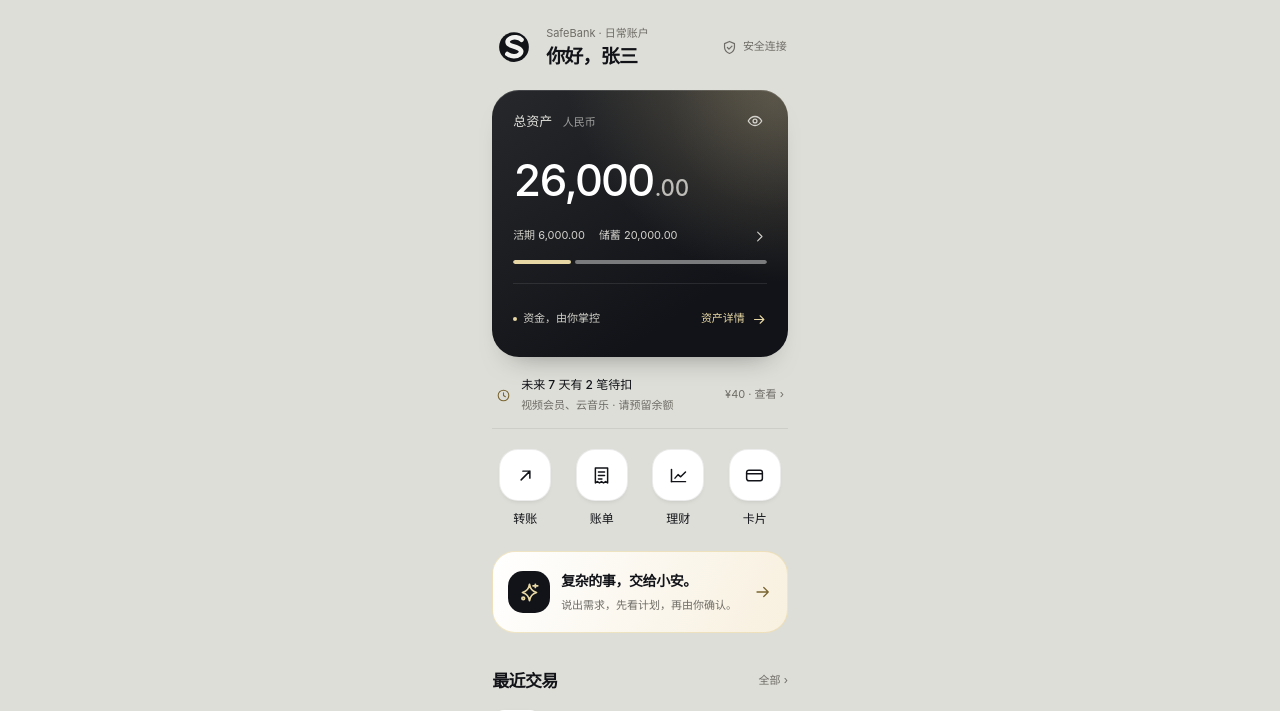
首页聚合 › 金额开关立即遮盖资产与交易，并持久化；明细面板遵循隐私偏好
Expected: the element with test id "home-total" is shown, [513,153,689,207]
Click the button named "隐藏金额": (755, 121) [733,99,777,143]
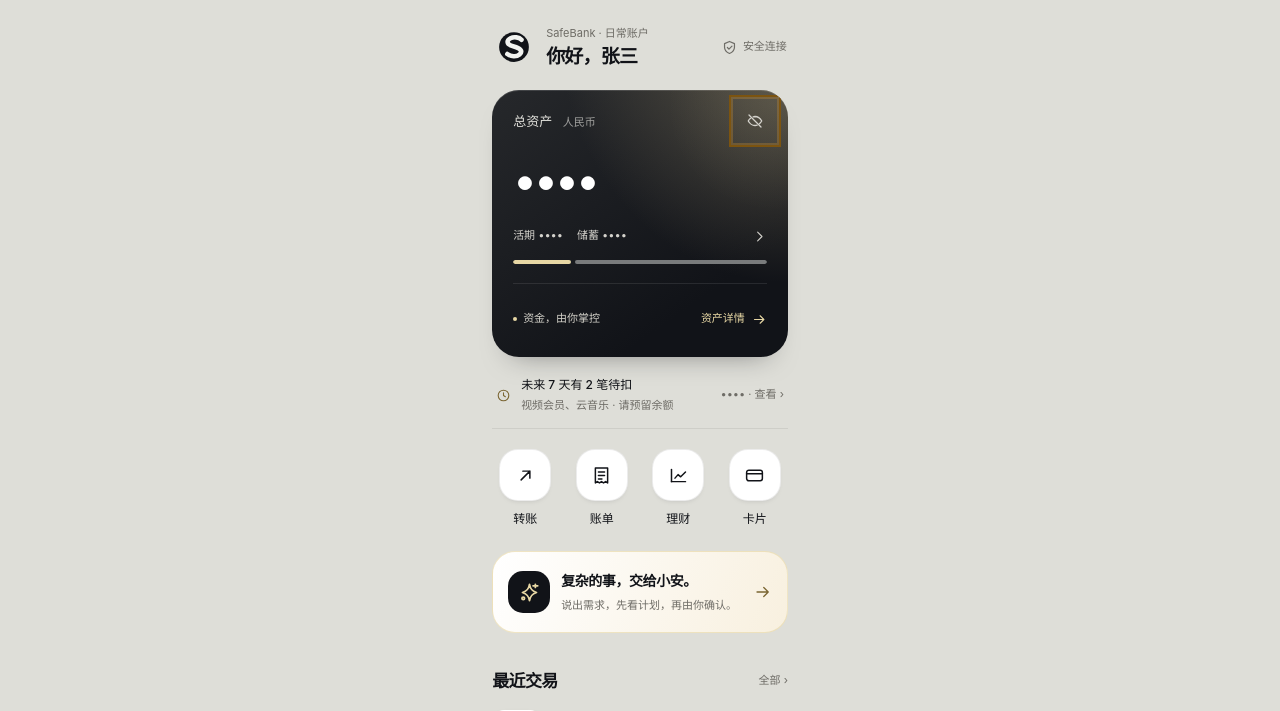
Expected: the text with test id "home-total" reads "••••", [513,153,597,207]
Click the button named "查看资产分布": (640, 236) [513,214,767,258]
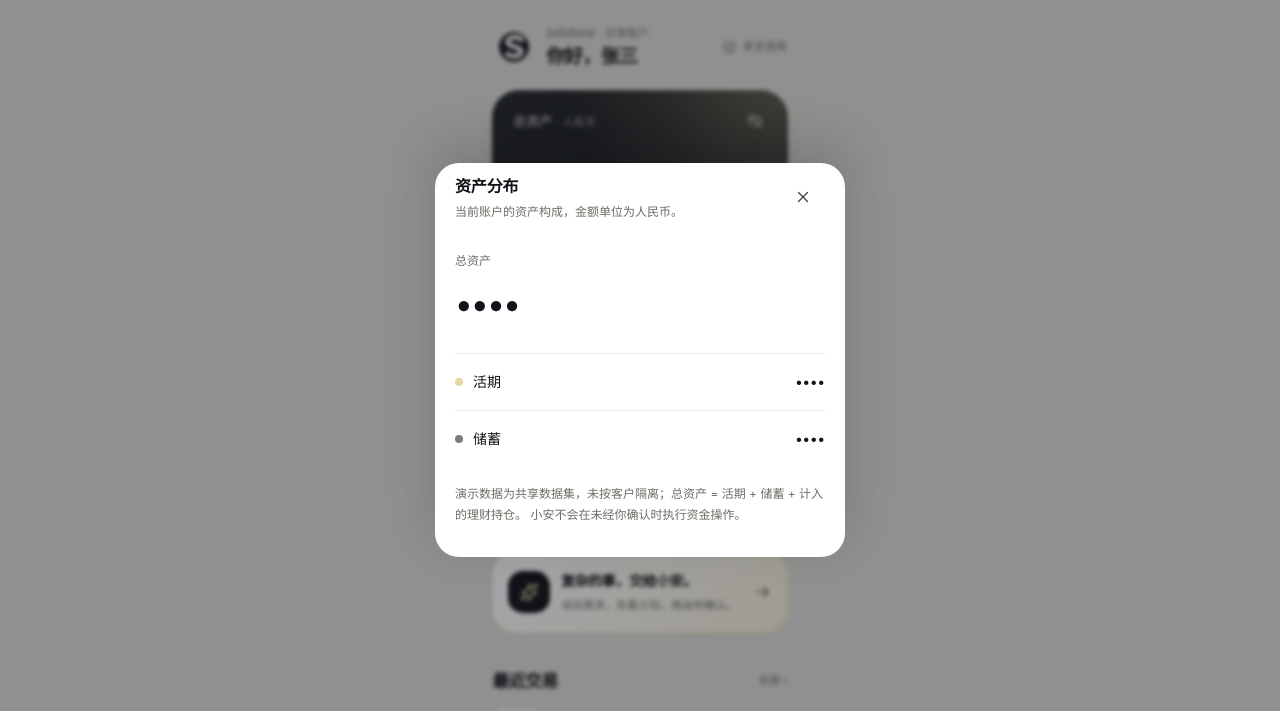
Expected: the dialog "资产分布" does not show "26,000", [435,163,845,557]
Expected: the dialog "资产分布" does not show "20,000", [435,163,845,557]
Press Escape
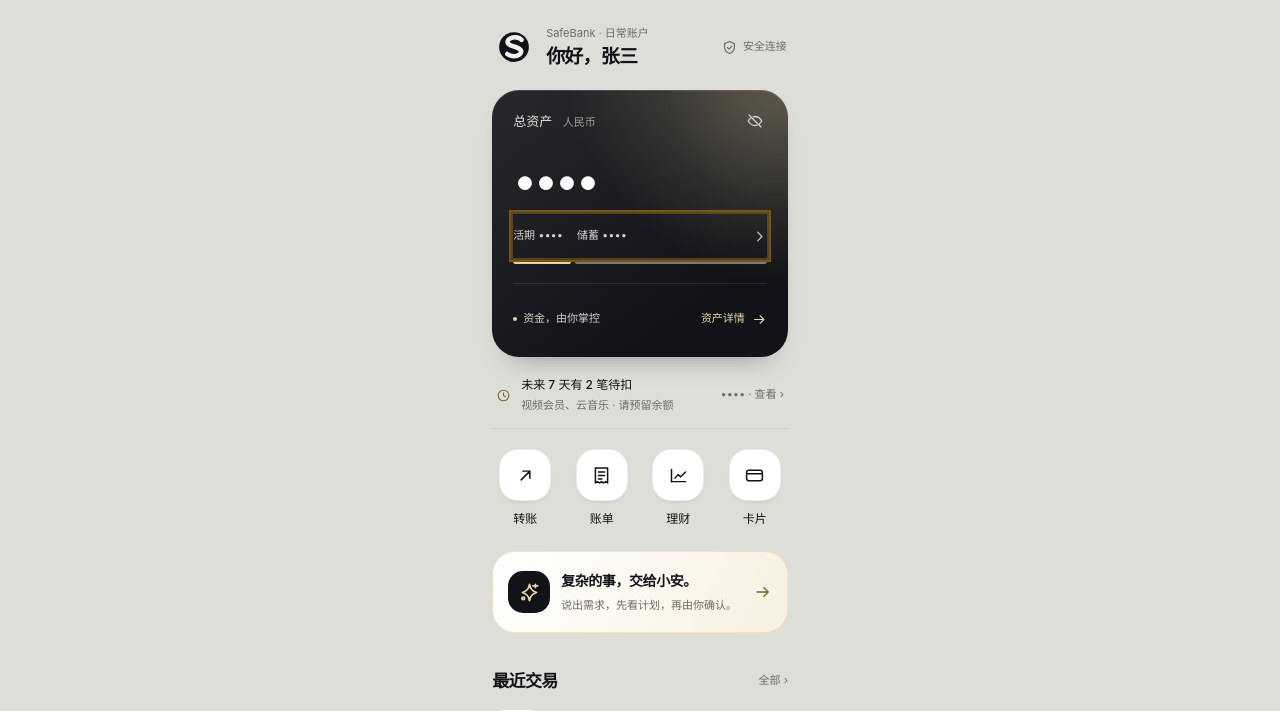
Expected: the dialog is gone
Click the button named "显示金额": (755, 121) [733,99,777,143]
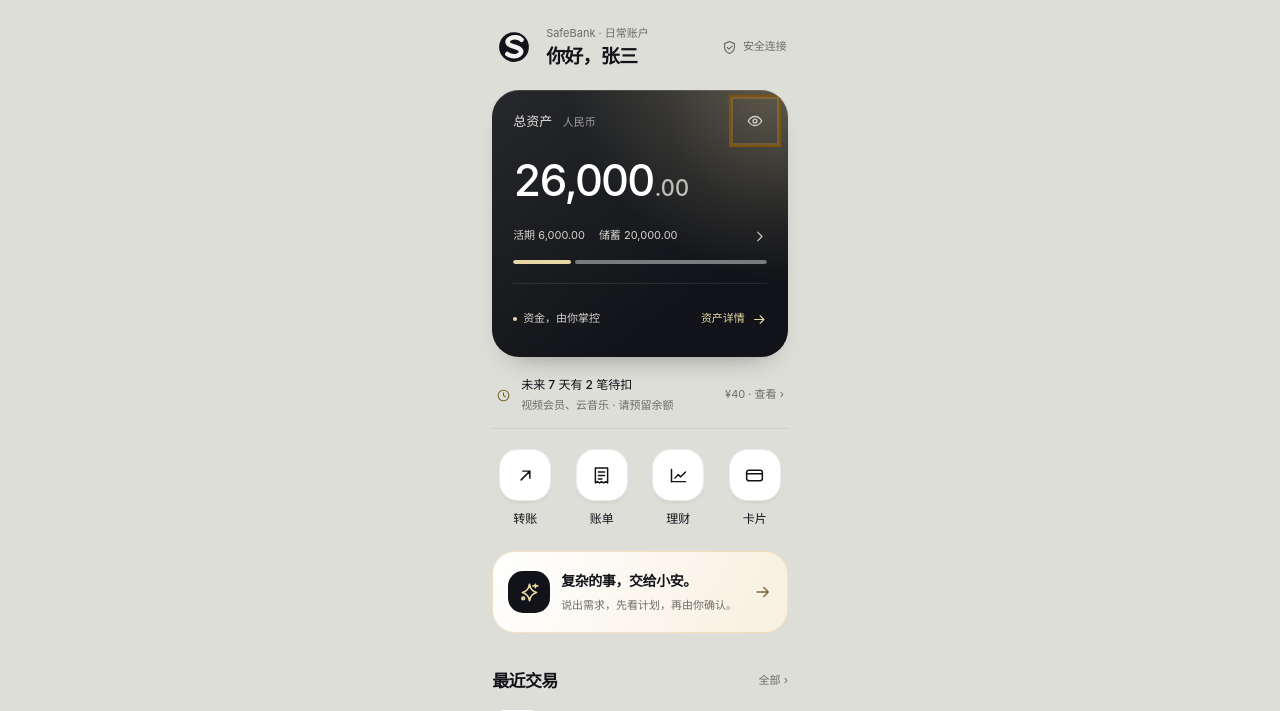
Expected: the element with test id "home-total" reads "26,000.00", [513,153,689,207]
